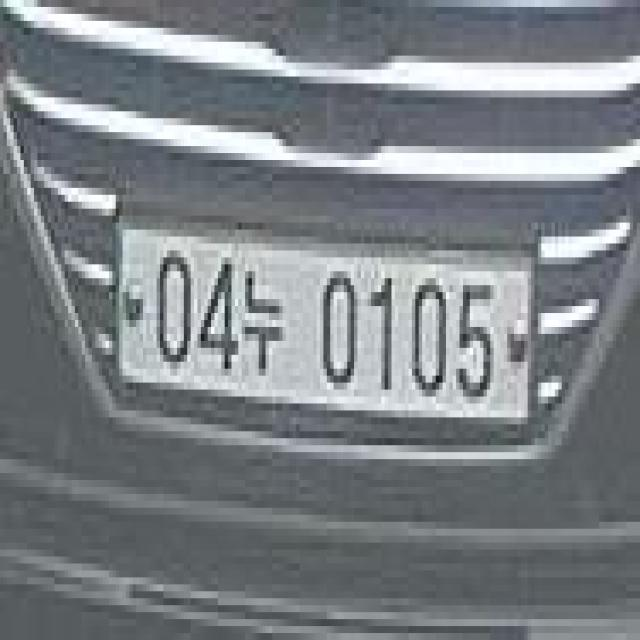illegal_plate: (112, 214, 537, 457)
